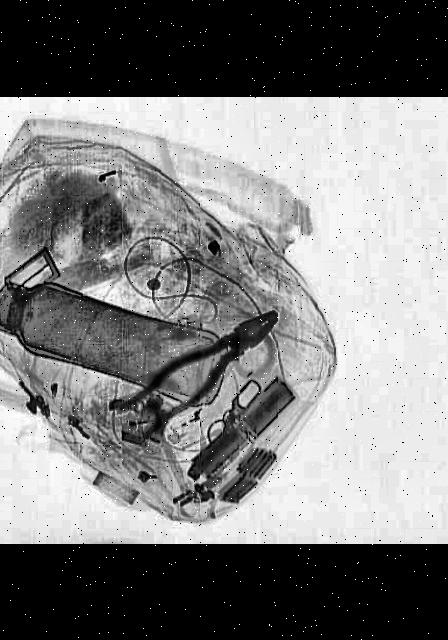Pliers: (103, 300, 298, 440)
